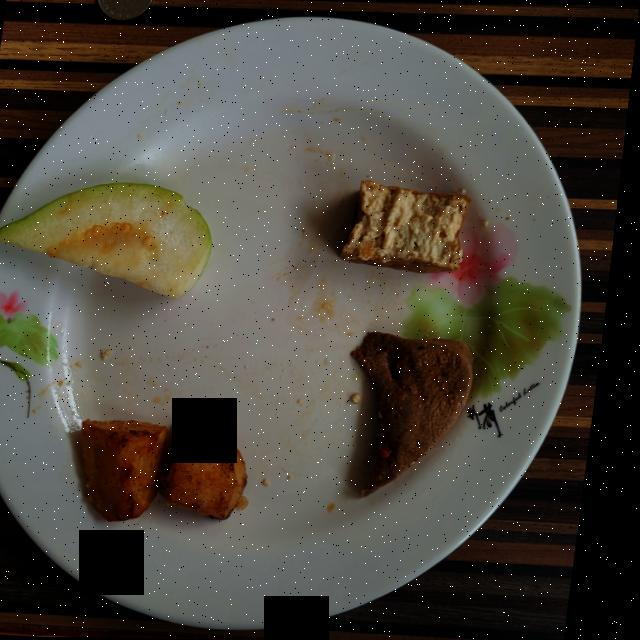coin: (98, 0, 152, 20)
egg tofu: (347, 180, 475, 273)
fried potato: (91, 419, 258, 521)
guava -sliced-: (0, 182, 217, 298)
pig liver: (359, 332, 482, 496)
